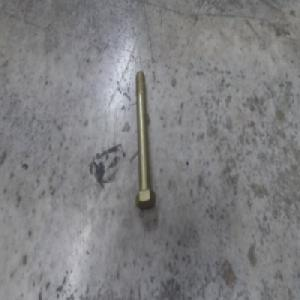Bolt: (133, 70, 156, 208)
